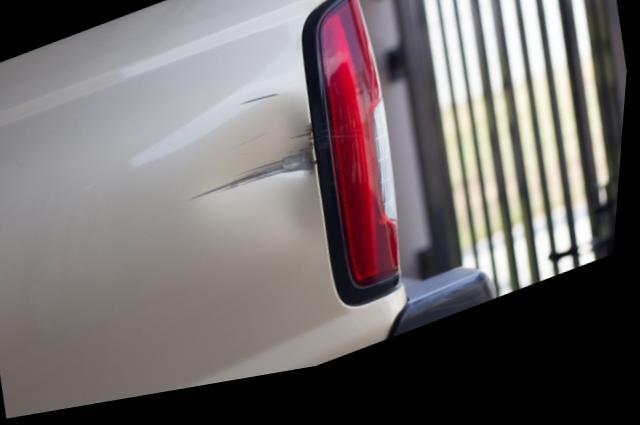dent: (203, 109, 329, 248)
